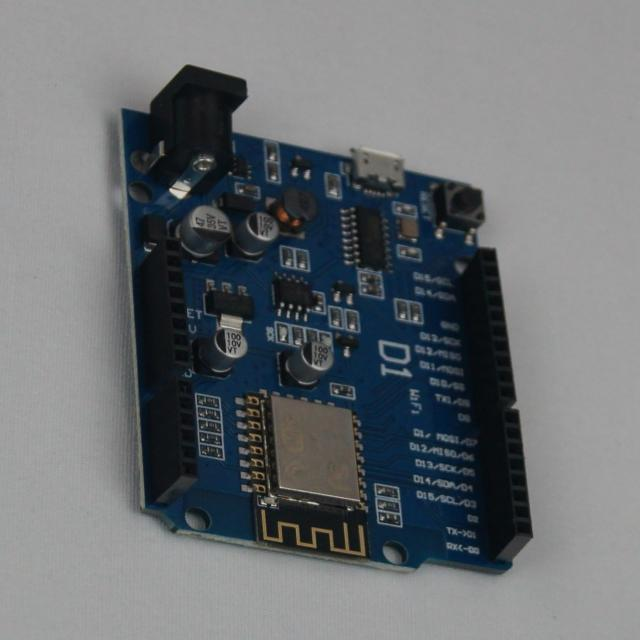Arduino Uno WiFi Shield: (122, 67, 532, 573)
